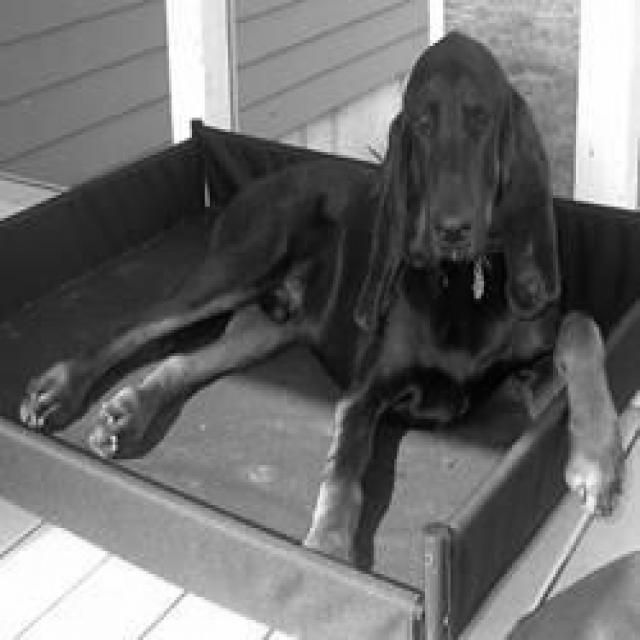laying down: (17, 23, 634, 574)
